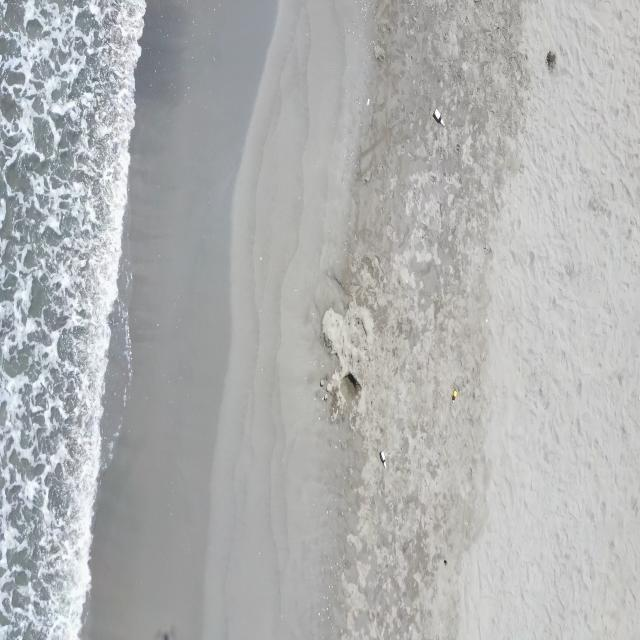glass: (433, 108, 445, 127), (379, 450, 388, 470), (452, 388, 458, 404)
